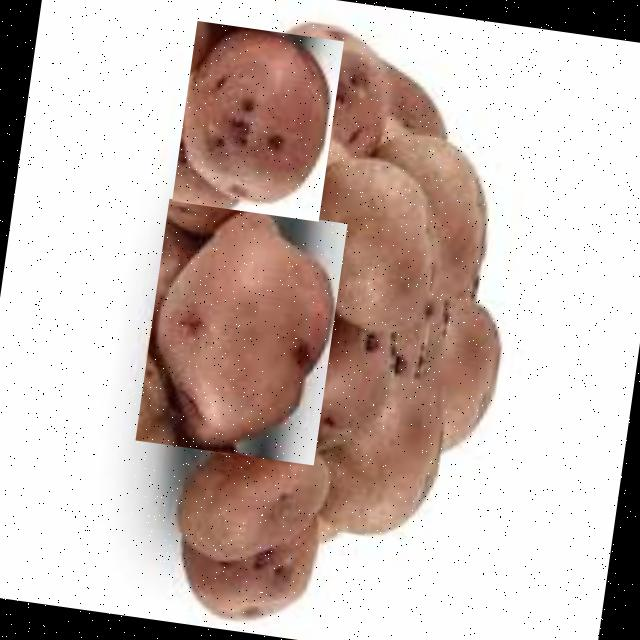Defected potato: (136, 198, 348, 464), (172, 20, 344, 221), (285, 144, 460, 338)
